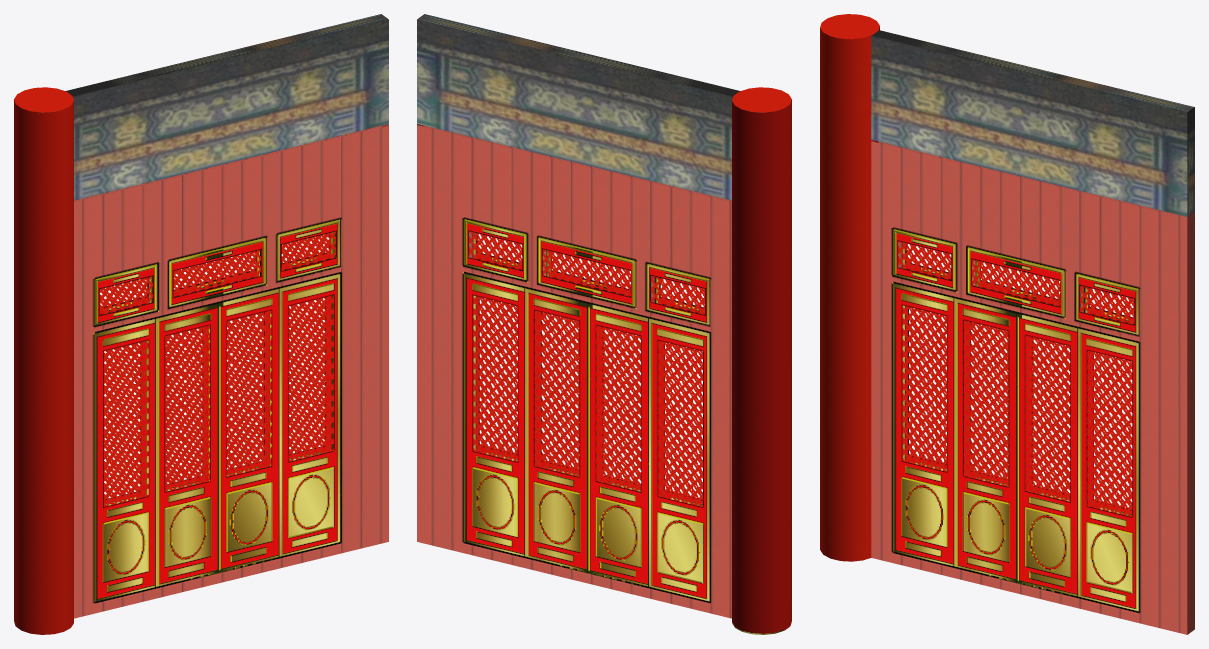
The model's file is wall.dae.
3 views of the same model, side by side, from view 1: azimuth 30°, elevation 25°; view 2: azimuth 150°, elevation 25°; view 3: azimuth 330°, elevation 25° (orthographic).
Parts seen in each view (by area): view 1: MainNode; view 2: MainNode; view 3: MainNode.
Boxes of the visible parts, x1,y1,x2,y2 form: MainNode: (14,14,388,634); MainNode: (417,14,791,634); MainNode: (820,14,1194,634).
Bounding box in the file's own units: 3.53 × 4.8 × 0.4904.
Materials: 1 (1 with a texture image).
